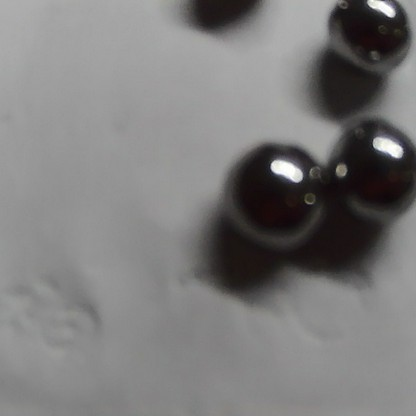ironball: (214, 137, 330, 251), (336, 101, 409, 225), (316, 0, 413, 78)
